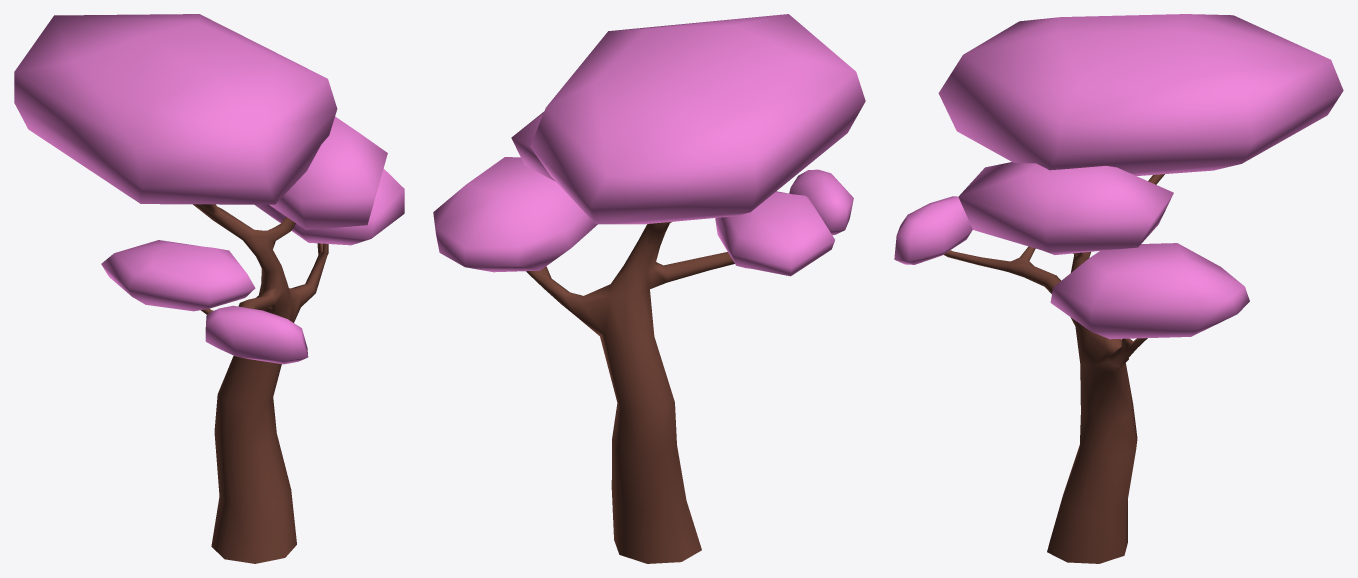
Rendered from Arvore_Cerejera_3.fbx.
The picture shows the model from 3 angles, left to right: view 1: azimuth 30°, elevation 25°; view 2: azimuth 150°, elevation 25°; view 3: azimuth 270°, elevation 25°; orthographic projection. The views are drawn at different scales.
Parts seen in each view (by area): view 1: Arvore_Cerejera_3; view 2: Arvore_Cerejera_3; view 3: Arvore_Cerejera_3.
Part boxes in pixels (x1,y1,x2,y2): Arvore_Cerejera_3: (14,14,404,563); Arvore_Cerejera_3: (433,14,865,563); Arvore_Cerejera_3: (894,14,1343,563).
Bounding box in the file's own units: 4.93 × 4.01 × 5.9.
